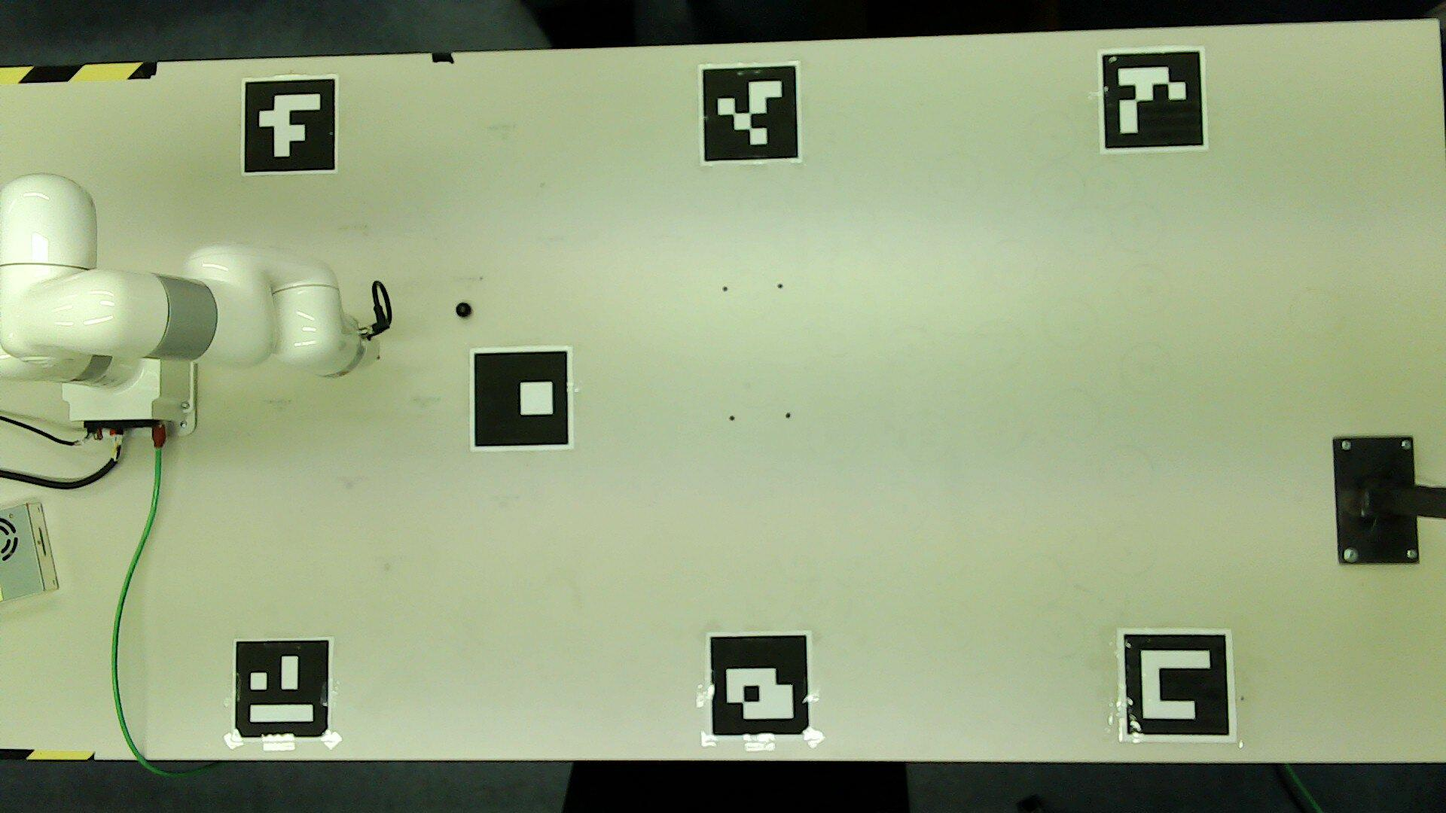ball: (458, 304, 470, 317)
